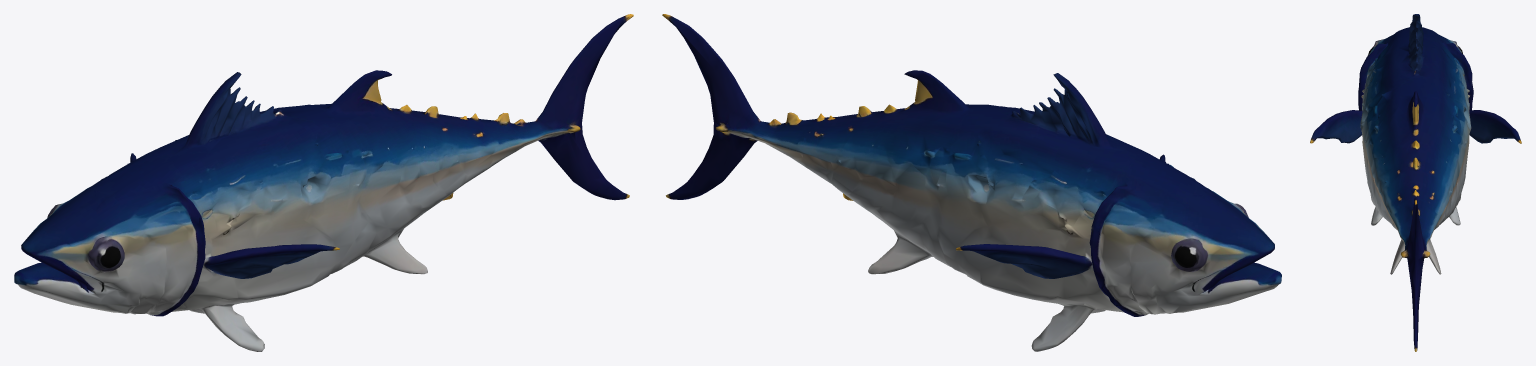
File: fish-tunec.glb
3 views of the same model, side by side, from view 1: azimuth 30°, elevation 25°; view 2: azimuth 150°, elevation 25°; view 3: azimuth 270°, elevation 25° (orthographic). The views are drawn at different scales.
Visible parts, largest first — view 1: tripo_node_aa7e2248-7cd3-45ca-b0a5-dbac31c65488; view 2: tripo_node_aa7e2248-7cd3-45ca-b0a5-dbac31c65488; view 3: tripo_node_aa7e2248-7cd3-45ca-b0a5-dbac31c65488.
Part boxes in pixels (bbox=[...]): tripo_node_aa7e2248-7cd3-45ca-b0a5-dbac31c65488: bbox=[14, 14, 633, 351]; tripo_node_aa7e2248-7cd3-45ca-b0a5-dbac31c65488: bbox=[662, 14, 1281, 351]; tripo_node_aa7e2248-7cd3-45ca-b0a5-dbac31c65488: bbox=[1310, 14, 1521, 351].
Size of the model in its own units: 1 by 0.3987 by 0.3594.
1 material, 1 textured.
